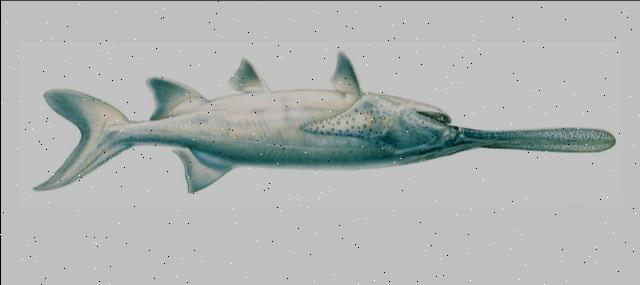Mulut: (407, 89, 461, 135)
Sirip Anal: (138, 70, 214, 127)
Sirip Dada: (326, 43, 368, 106)
Sirip Ekor: (26, 78, 136, 202)
Sirip Perut: (220, 49, 268, 102)
Sirip Punggung: (168, 140, 238, 202)
